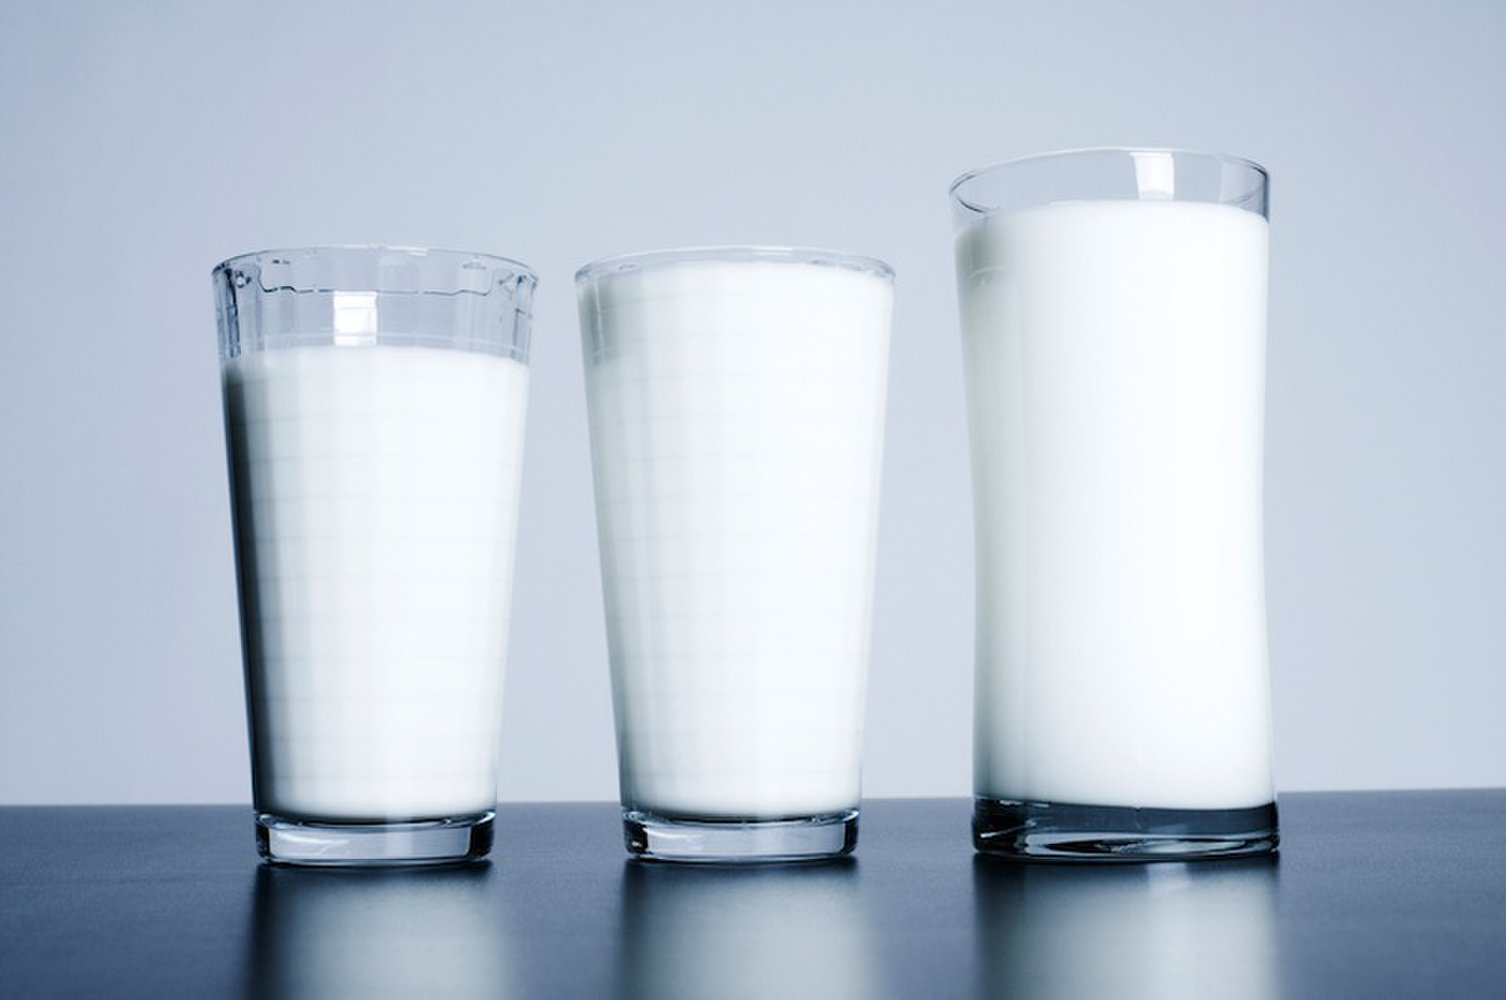glass of milk: (958, 146, 1282, 871), (575, 247, 894, 867), (213, 243, 531, 864)
